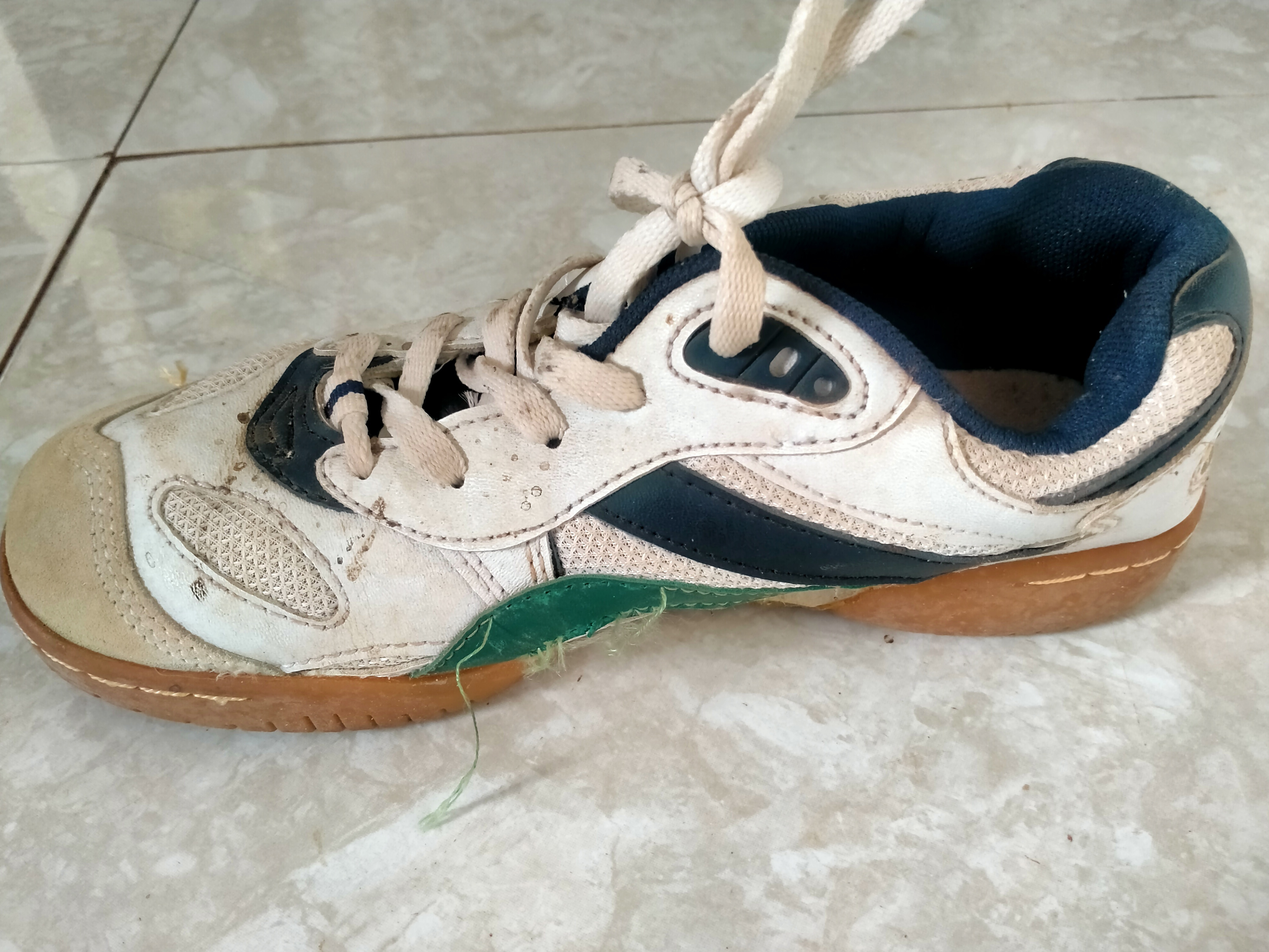broken: (492, 575, 666, 620), (525, 602, 642, 655)
